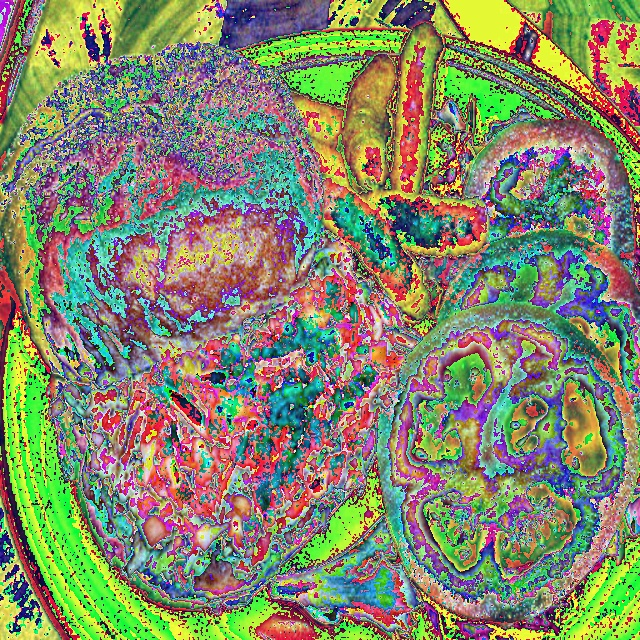background: (0, 19, 640, 639)
